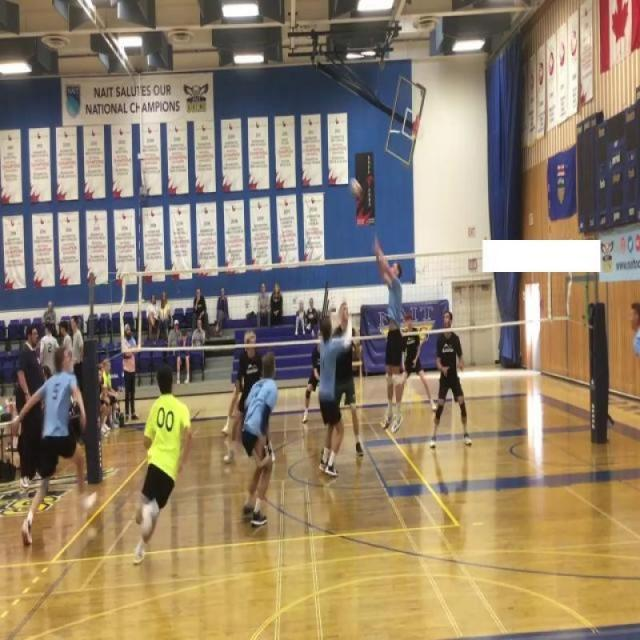volleyball: (348, 176, 363, 200)
